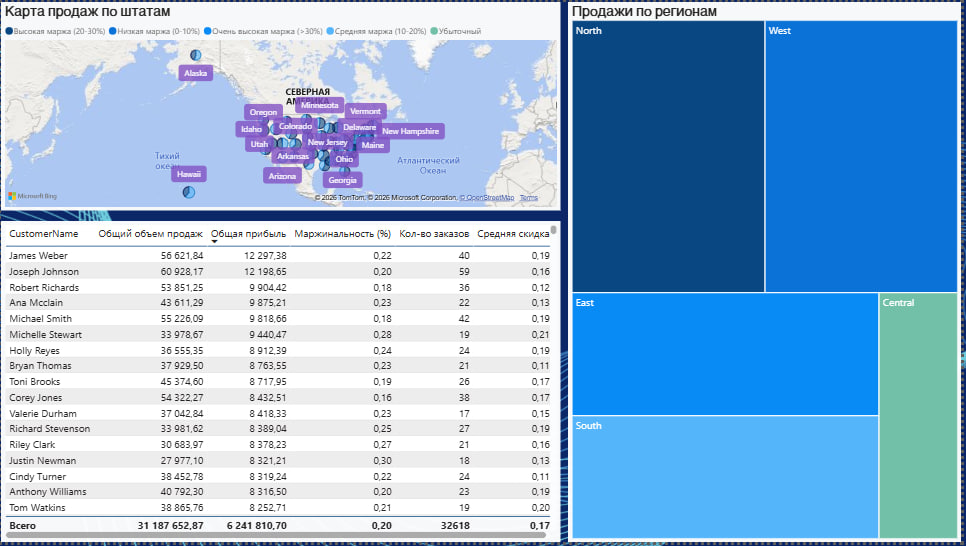

The dashboard page shown, as its layout file describes it:
{"tool":"powerbi","page":{"name":"География и клиенты","canvas":[1280,720],"ordinal":2},"visuals":[{"type":"map","title":"Карта продаж по штатам","fields":{"Size":["Меры.Общий объем продаж"],"Category":["Customers.State"],"Series":["Customers.Customer Margin Category"]},"box":[0,0,746,278],"z":0},{"type":"tableEx","fields":{"Values":["Customers.CustomerName","Меры.Общий объем продаж","Меры.Общая прибыль","Меры.Маржинальность (%)","Меры.Кол-во заказов","Меры.Средняя скидка"]},"box":[0,292,746,428],"z":1000},{"type":"treemap","title":"Продажи по регионам","fields":{"Values":["Меры.Общий объем продаж"],"Group":["Customers.Region"]},"box":[756,0,524,720],"z":2000}]}

Visuals, with their boxes in screenshot pixels (x1, y1, x2, y2), scaled from the page's 1280x720 canvas onto the 966x546 screenshot:
"Карта продаж по штатам" map: [0,0,563,211]
tableEx - Customers.CustomerName x Меры.Общий объем продаж: [0,221,563,545]
"Продажи по регионам" treemap: [571,0,965,545]
